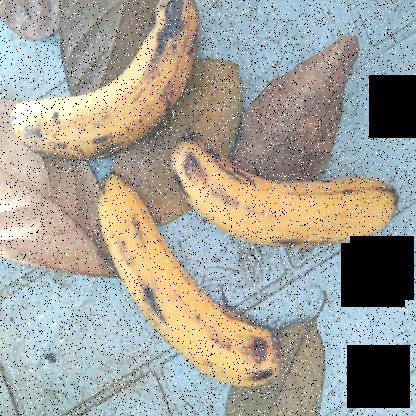overripe: (1, 0, 202, 174), (170, 122, 415, 259)
ripe: (92, 166, 289, 400)
